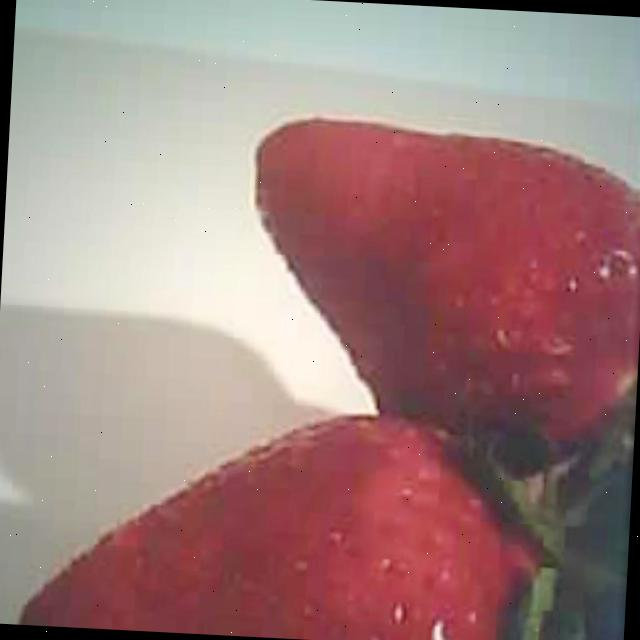strawberry: (239, 115, 640, 452), (18, 398, 551, 640)
